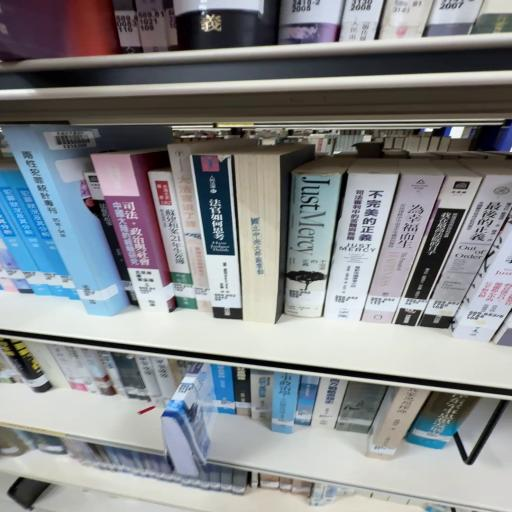backward: (236, 145, 315, 325)
